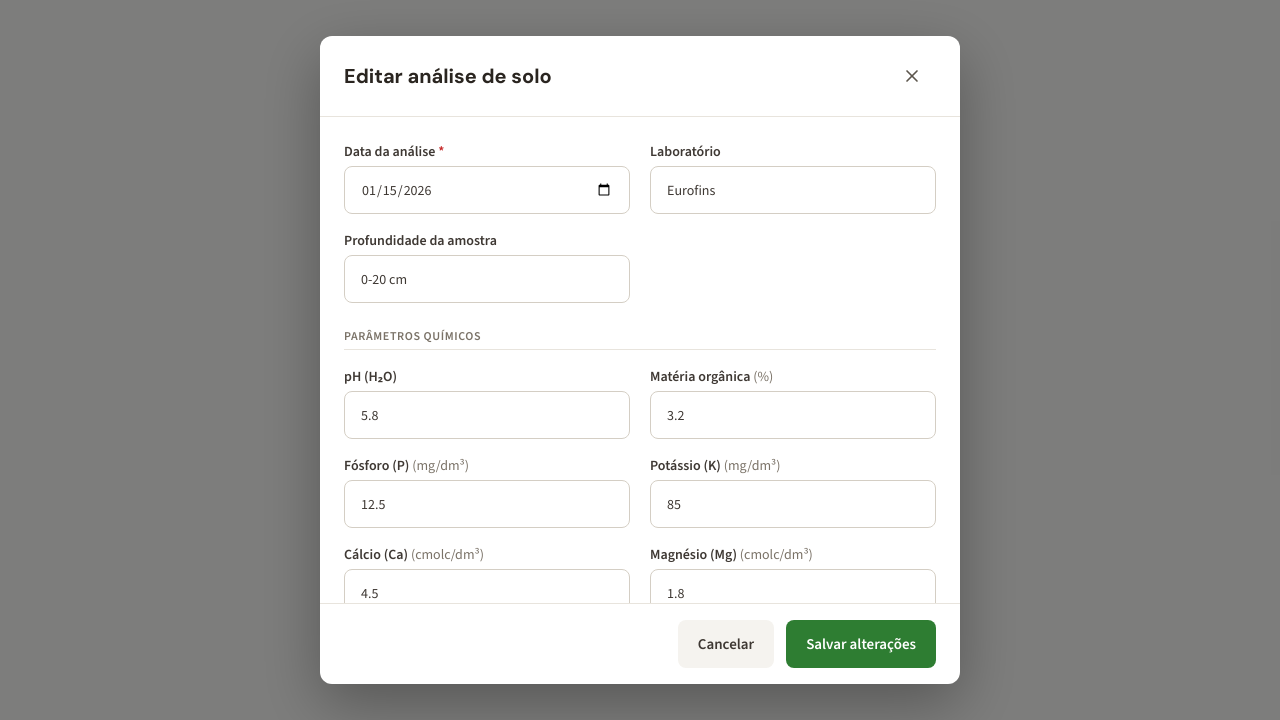
Test: EditSoilAnalysisModal › shows validation error for pH out of range
Step 1. Replace the text in the number field labelled "pH (H₂O)" with "15" → x=487, y=415, box [344, 391, 630, 439]
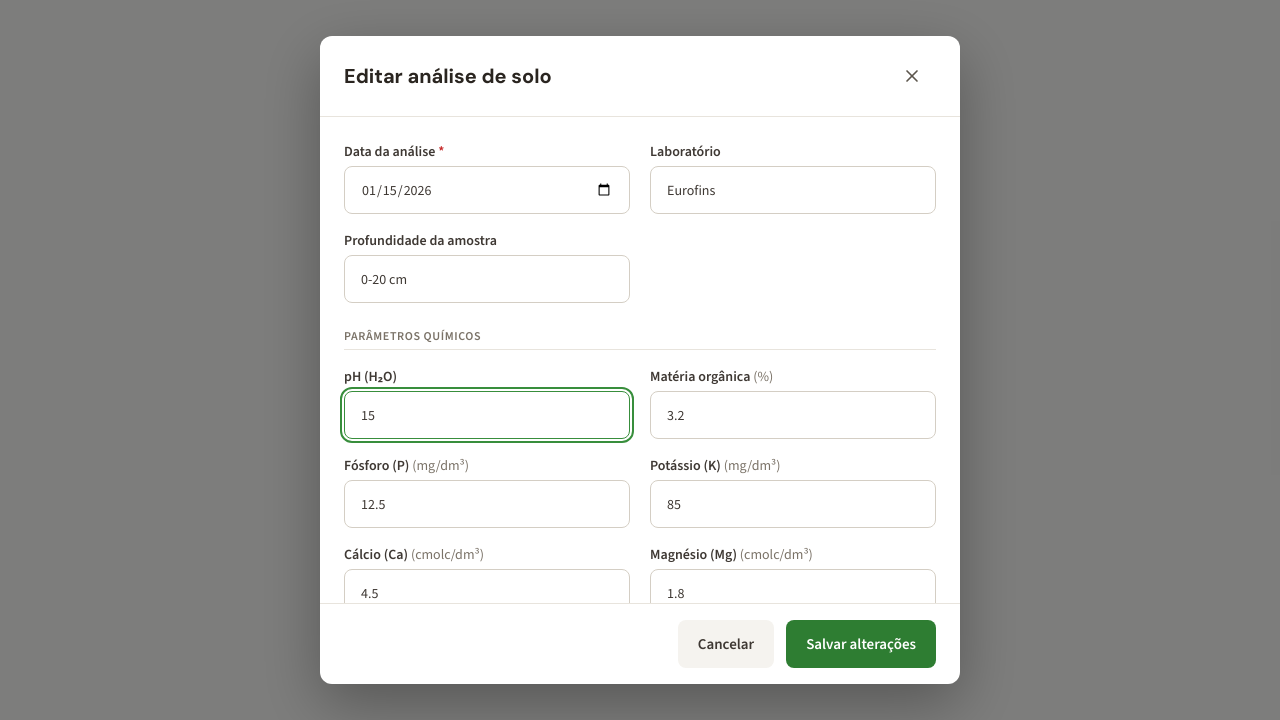
Step 2. Press Tab
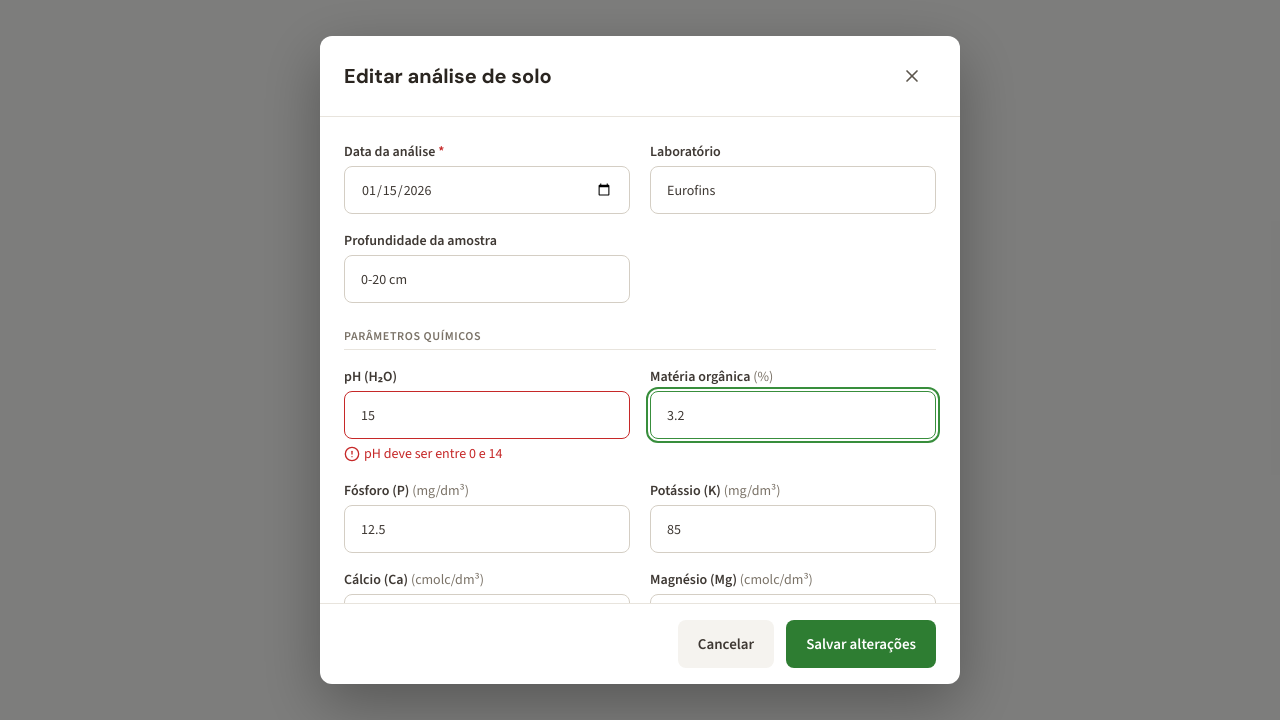
Check: the text "pH deve ser entre 0 e 14" is shown, box [344, 444, 502, 463]
